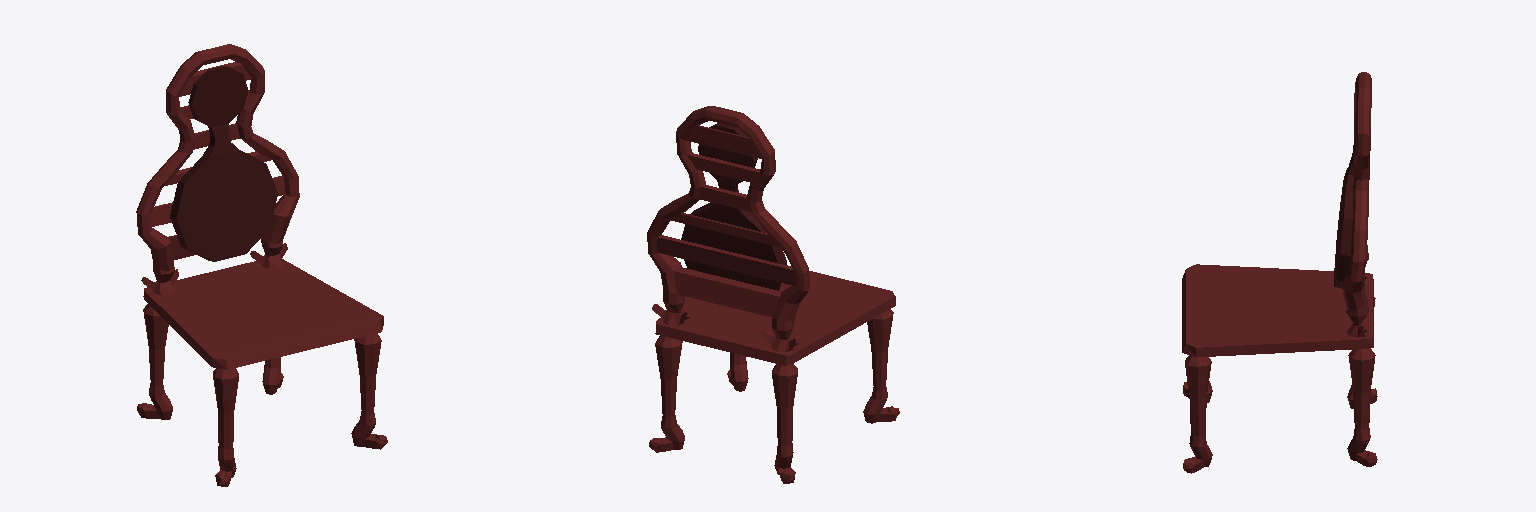
File: chairExport.obj
3 views of the same model, side by side, from view 1: azimuth 30°, elevation 25°; view 2: azimuth 150°, elevation 25°; view 3: azimuth 270°, elevation 25° (orthographic).
Visible parts, largest first — view 1: pCubeShape2Shape; view 2: pCubeShape2Shape; view 3: pCubeShape2Shape.
Boxes of the visible parts, box(x1,y1,x2,y2) form: pCubeShape2Shape: box(136, 44, 387, 486); pCubeShape2Shape: box(647, 106, 899, 483); pCubeShape2Shape: box(1182, 72, 1377, 473).
Size of the model in its own units: 73.58 by 145 by 72.58.